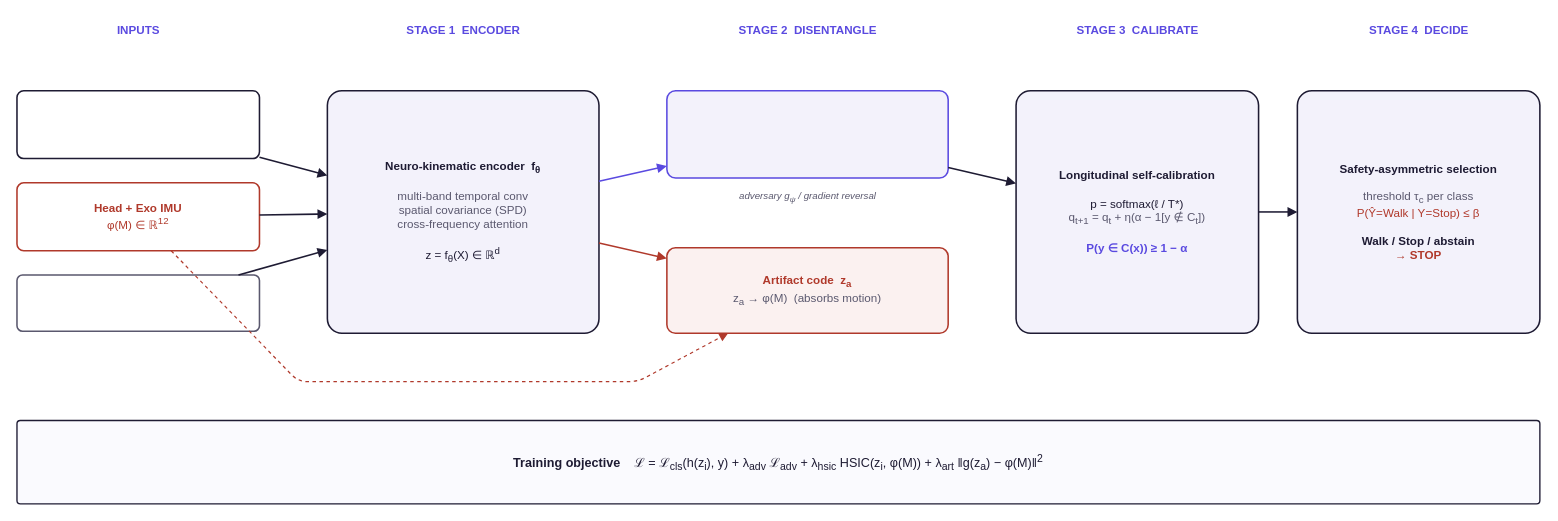
Image size: 1558x521. Some labels were removed from this diagram. The box of each missing label's shape, as (x1, y1, x2, y2) in pixels:
EEG X ∈ ℝ 60×200: (16, 89, 260, 159)
EOG (4 ch): (16, 274, 260, 332)
Intent code z i min I(z i ; M) via GRL + HSIC: (666, 89, 948, 178)
